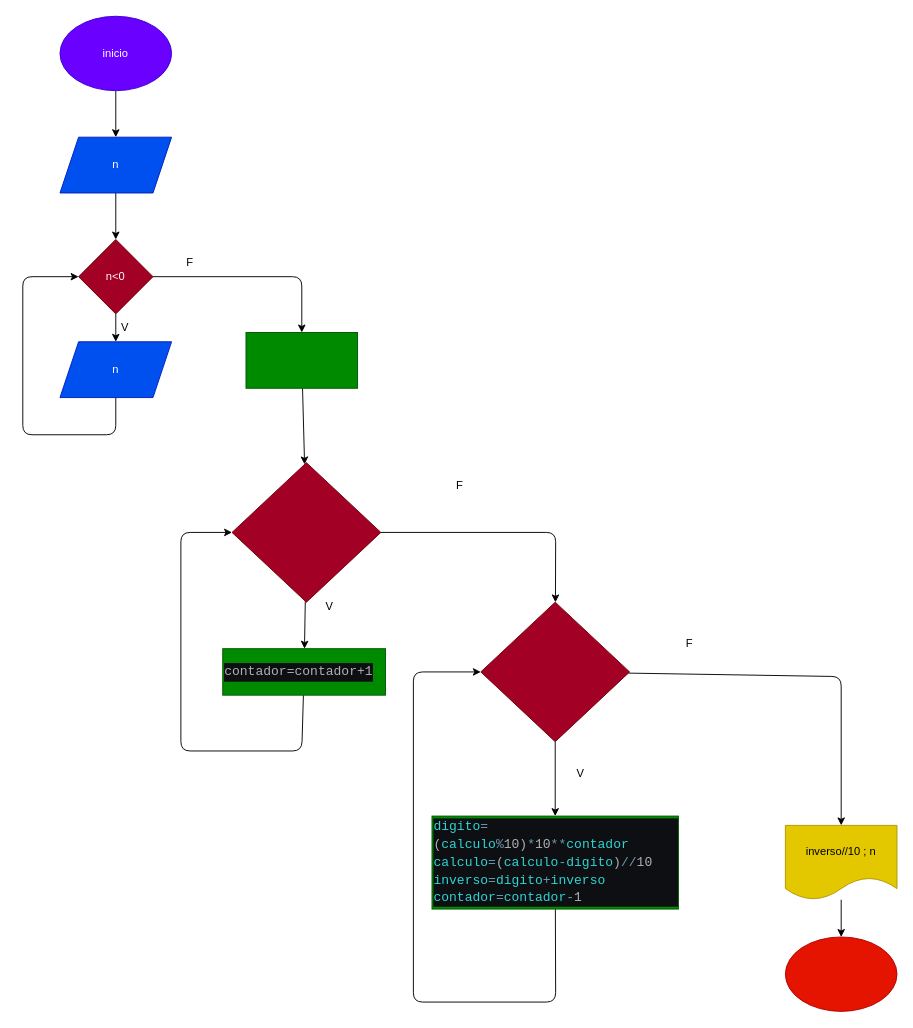
Image size: 913x1028. Some labels were removed from this diagram. The centre of each missing label's shape, as x and y in pixels:
"calculo =n inverso =0 contador=0" belongs at point (301, 360).
"calculo//10**contador != 0" belongs at point (306, 532).
"contador != 0" belongs at point (555, 671).
"fin" belongs at point (840, 973).
